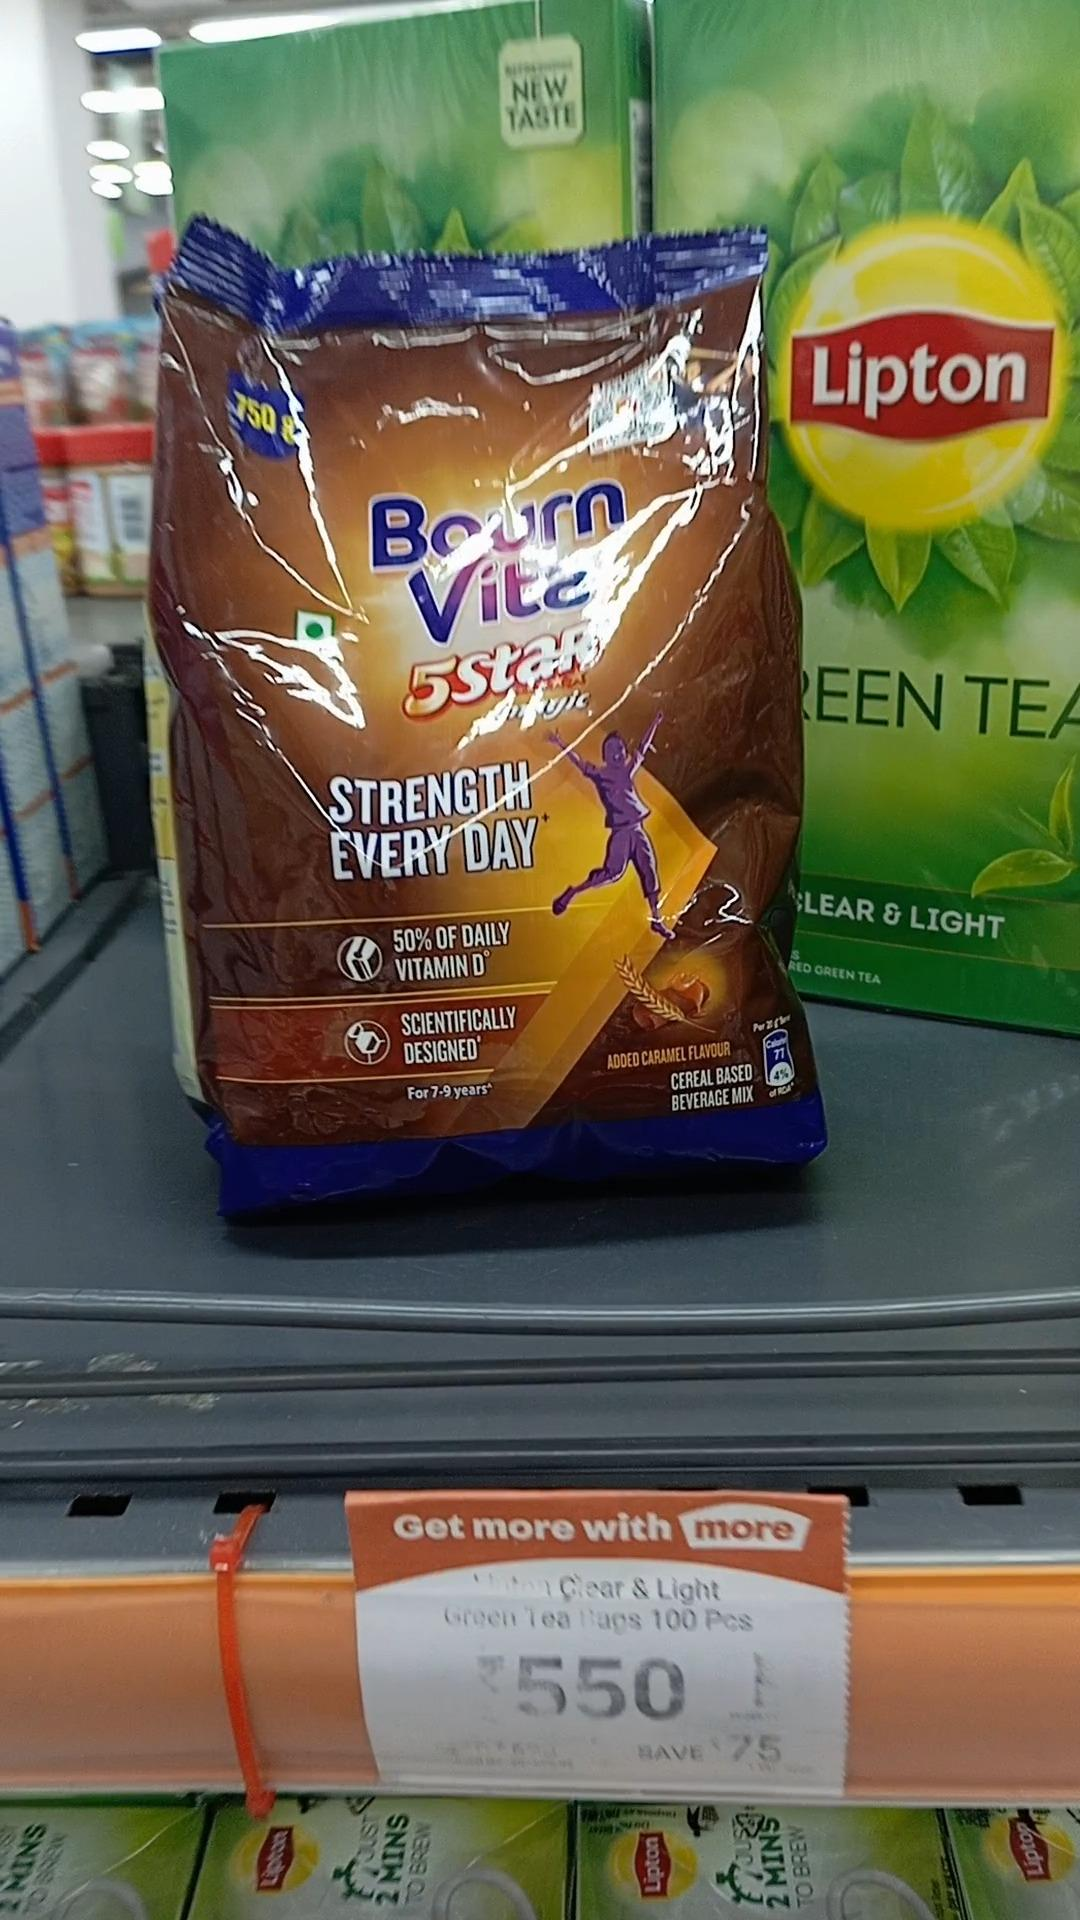BOURN_VITA_FIVE_STAR_MAGIC_750_G_POUCH: (158, 215, 818, 1205)
